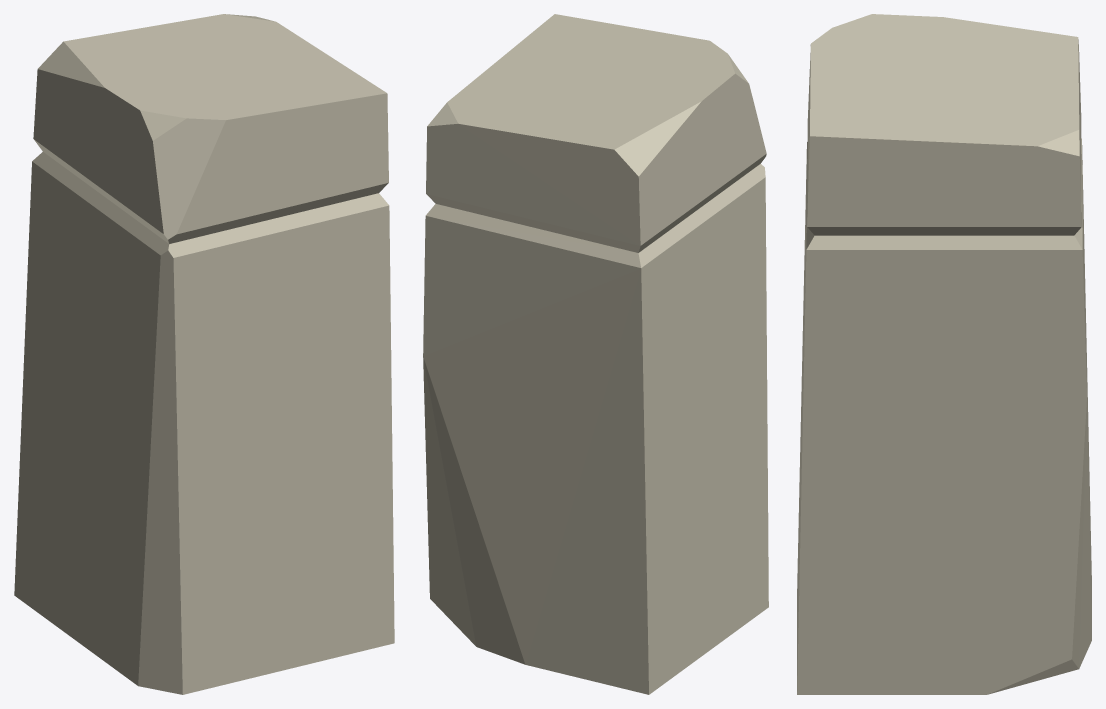
Rendered from Rock_Square_l_14.fbx.
The picture shows the model from 3 angles, left to right: view 1: azimuth 30°, elevation 25°; view 2: azimuth 150°, elevation 25°; view 3: azimuth 270°, elevation 25°; orthographic projection. The views are drawn at different scales.
Parts seen in each view (by area): view 1: Rock_Square_l_14; view 2: Rock_Square_l_14; view 3: Rock_Square_l_14.
Part boxes in pixels (x1,y1,x2,y2): Rock_Square_l_14: (14, 14, 394, 694); Rock_Square_l_14: (423, 14, 768, 694); Rock_Square_l_14: (797, 14, 1091, 694).
Bounding box in the file's own units: 138 × 311 × 145.
